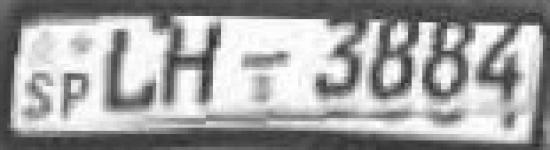-: (237, 43, 293, 76)
3: (312, 10, 366, 103)
4: (478, 13, 529, 112)
8: (365, 10, 424, 103), (422, 10, 476, 102)
H: (161, 19, 230, 111)
L: (98, 21, 161, 115)
P: (59, 66, 96, 124)
S: (21, 68, 56, 125)
